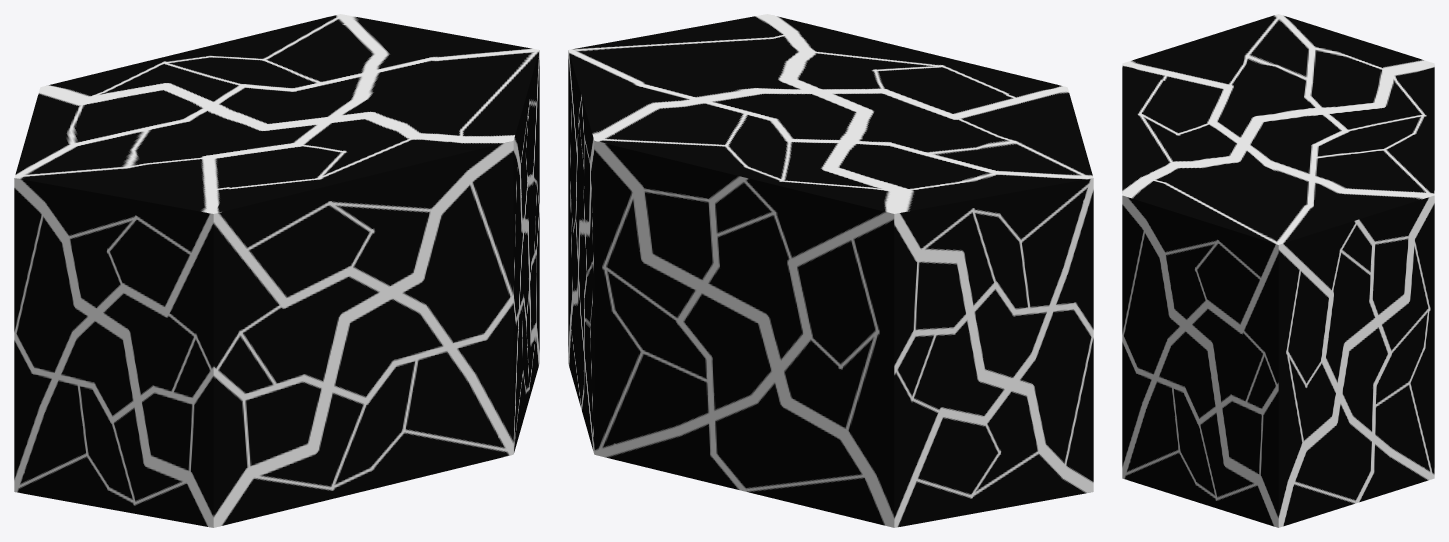
File: BreakBaseBlockSource.fbx
3 renders of one model, left to right at view 1: azimuth 30°, elevation 25°; view 2: azimuth 150°, elevation 25°; view 3: azimuth 270°, elevation 25°, orthographic. The views are drawn at different scales.
Parts seen in each view (by area): view 1: Collider.049, Collider.003, Collider.010, Collider.011, Collider.048, Collider.036, Collider.045, Collider.004, Collider.051, Collider.046, Collider.044, Collider.002 (+27 smaller); view 2: Collider.029, Collider.026, Collider.002, Collider.001, Collider.025, Collider.023, Collider.027, Collider.028, Collider.057, Collider.012, Collider.053, Collider.054 (+27 smaller); view 3: Collider.030, Collider.032, Collider.006, Collider.028, Collider.003, Collider.035, Collider.034, Collider.002, Collider.033, Collider.065, Collider.040, Collider.008 (+23 smaller).
Boxes of the visible parts, bbox=[...] form: Collider.049: bbox=[143, 214, 285, 527]; Collider.003: bbox=[14, 148, 252, 278]; Collider.010: bbox=[214, 369, 513, 527]; Collider.011: bbox=[14, 406, 213, 527]; Collider.048: bbox=[250, 354, 371, 486]; Collider.036: bbox=[382, 260, 513, 454]; Collider.045: bbox=[330, 260, 441, 423]; Collider.004: bbox=[214, 128, 513, 213]; Collider.051: bbox=[57, 322, 184, 444]; Collider.046: bbox=[214, 210, 381, 304]; Collider.044: bbox=[363, 141, 513, 265]; Collider.002: bbox=[14, 87, 150, 177]; Collider.029: bbox=[849, 214, 939, 527]; Collider.026: bbox=[715, 205, 874, 388]; Collider.002: bbox=[869, 150, 1092, 258]; Collider.001: bbox=[594, 137, 893, 288]; Collider.025: bbox=[618, 225, 779, 422]; Collider.023: bbox=[594, 368, 792, 475]; Collider.027: bbox=[594, 141, 732, 314]; Collider.028: bbox=[587, 141, 653, 454]; Collider.057: bbox=[921, 345, 1070, 454]; Collider.012: bbox=[894, 440, 1092, 527]; Collider.053: bbox=[1042, 178, 1093, 491]; Collider.054: bbox=[917, 259, 1070, 385]; Collider.030: bbox=[1233, 245, 1301, 527]; Collider.032: bbox=[1334, 268, 1410, 440]; Collider.006: bbox=[1279, 195, 1434, 271]; Collider.028: bbox=[1389, 196, 1434, 477]; Collider.003: bbox=[1122, 14, 1278, 105]; Collider.035: bbox=[1122, 196, 1165, 477]; Collider.034: bbox=[1278, 338, 1339, 527]; Collider.002: bbox=[1278, 14, 1434, 85]; Collider.033: bbox=[1321, 338, 1407, 469]; Collider.065: bbox=[1152, 168, 1312, 244]; Collider.040: bbox=[1196, 293, 1248, 432]; Collider.008: bbox=[1279, 442, 1434, 527].
Size of the model in its own units: 350 by 200 by 200.
